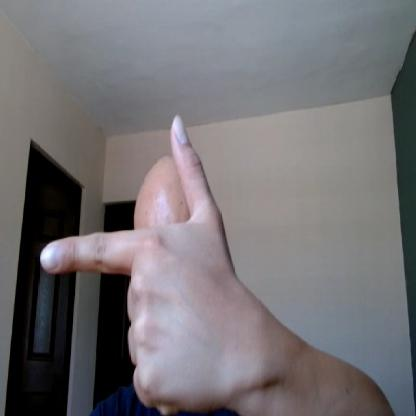G: (40, 115, 234, 415)
